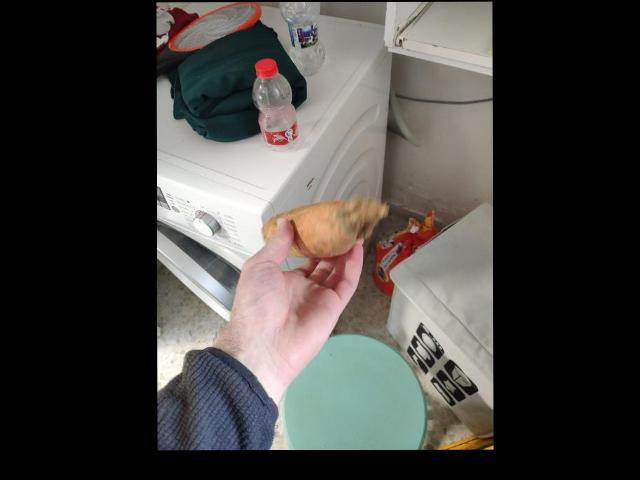sweet_potato: (269, 198, 363, 253)
